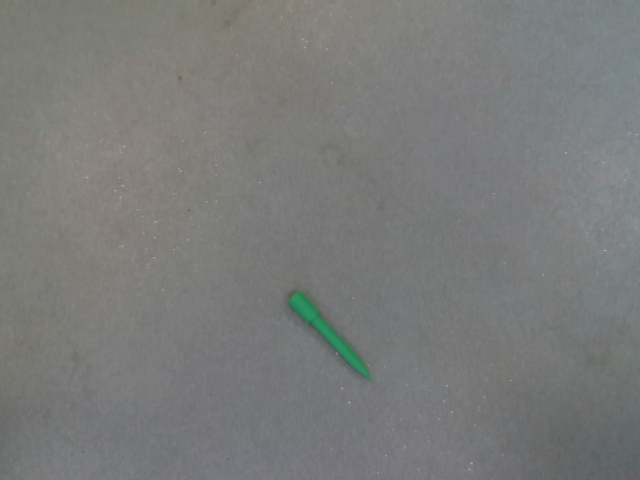Probe: (281, 283, 384, 391)
